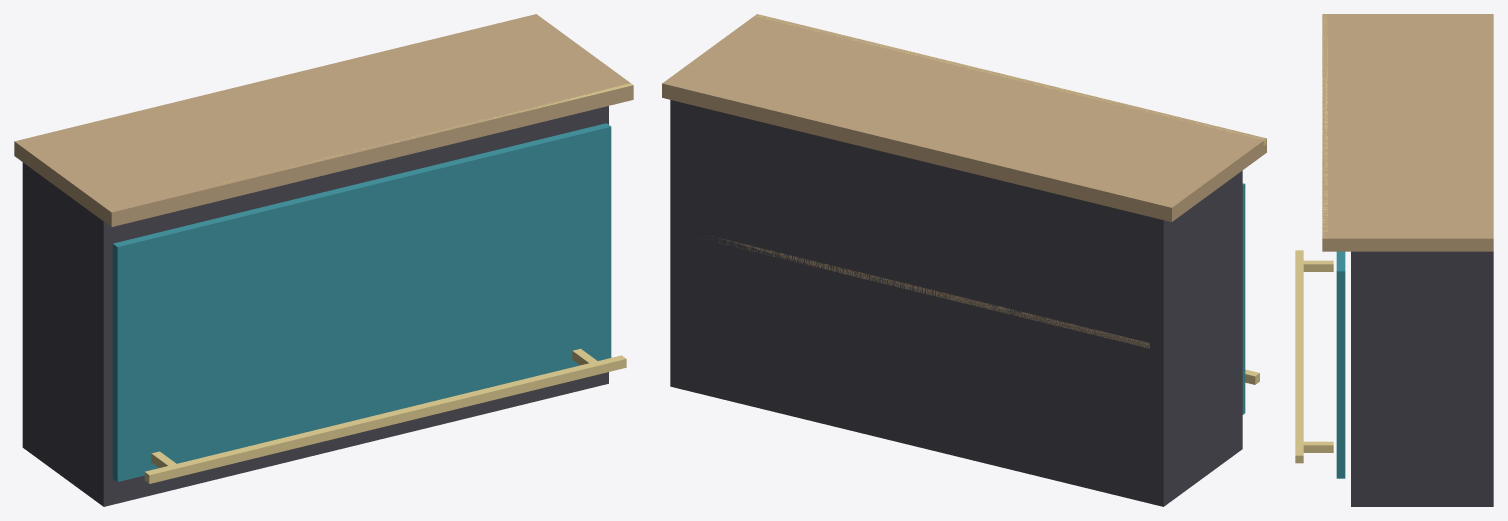
The model's file is bb_set_bar.fbx.
3 views of the same model, side by side, from view 1: azimuth 30°, elevation 25°; view 2: azimuth 150°, elevation 25°; view 3: azimuth 270°, elevation 25° (orthographic). The views are drawn at different scales.
Parts seen in each view (by area): view 1: bb_set_bar; view 2: bb_set_bar; view 3: bb_set_bar.
Boxes of the visible parts, <box> form: bb_set_bar: <box>14,14,633,506</box>; bb_set_bar: <box>662,14,1266,506</box>; bb_set_bar: <box>1295,14,1493,506</box>.
Size of the model in its own units: 1.86 by 1.05 by 0.695.
